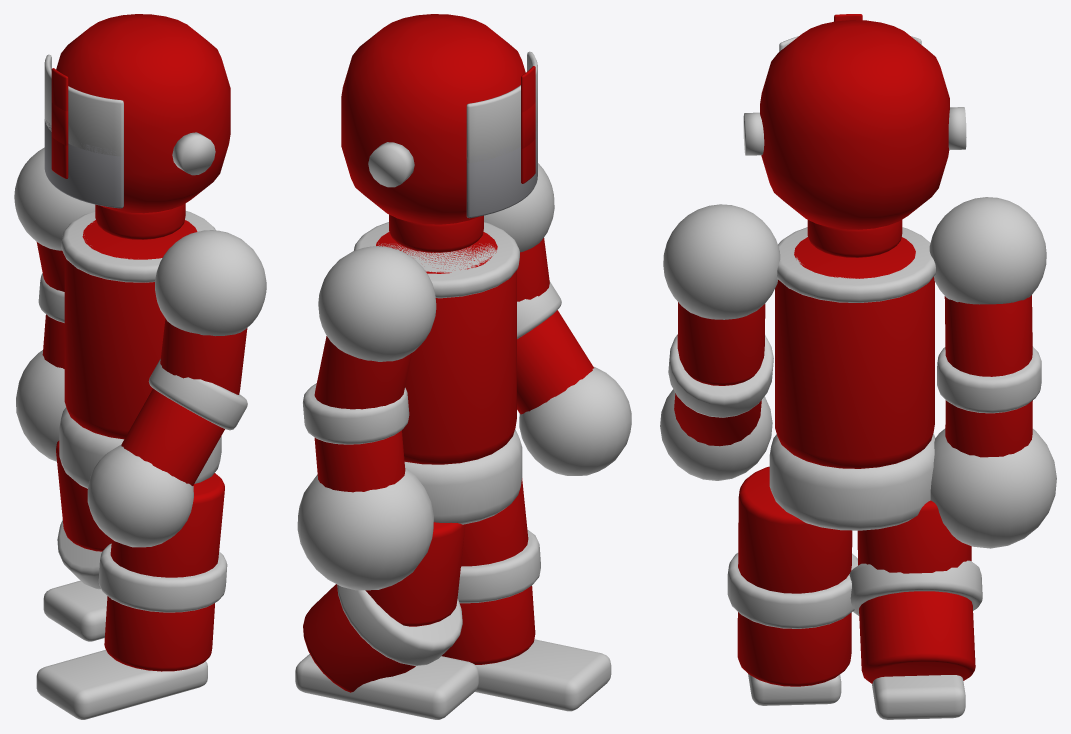
The picture shows the model from 3 angles, left to right: view 1: azimuth 30°, elevation 25°; view 2: azimuth 150°, elevation 25°; view 3: azimuth 270°, elevation 25°; orthographic projection. The views are drawn at different scales.
Visible parts, largest first — view 1: head, torso, shoulder_ball_n, fist_ball_n, foot_n, shin_n, farm_n, thigh_n, knee_ring_n, uarm_n, shoulder_ball_f, fist_ball_f (+15 smaller); view 2: head, torso, fist_ball_f, shoulder_ball_f, fist_ball_n, foot_n, foot_f, hips, thigh_f, shin_f, collar, farm_n (+16 smaller); view 3: head, torso, shoulder_ball_n, fist_ball_f, shoulder_ball_f, hips, shin_f, thigh_n, shin_n, uarm_f, uarm_n, collar (+13 smaller).
Part boxes in pixels (bbox=[...]): head: bbox=[56, 14, 230, 213]; torso: bbox=[64, 220, 197, 439]; shoulder_ball_n: bbox=[155, 230, 266, 336]; fist_ball_n: bbox=[87, 445, 193, 547]; foot_n: bbox=[36, 649, 207, 719]; shin_n: bbox=[104, 596, 214, 671]; farm_n: bbox=[121, 388, 224, 485]; thigh_n: bbox=[110, 473, 224, 577]; knee_ring_n: bbox=[98, 543, 227, 612]; uarm_n: bbox=[160, 318, 247, 394]; shoulder_ball_f: bbox=[14, 147, 95, 250]; fist_ball_f: bbox=[16, 350, 65, 461]; head: bbox=[341, 14, 525, 224]; torso: bbox=[376, 232, 516, 464]; fist_ball_f: bbox=[297, 467, 433, 590]; shoulder_ball_f: bbox=[318, 246, 436, 361]; fist_ball_n: bbox=[519, 367, 631, 475]; foot_n: bbox=[475, 639, 611, 711]; foot_f: bbox=[295, 654, 478, 719]; hips: bbox=[404, 429, 522, 524]; thigh_f: bbox=[365, 522, 465, 626]; shin_f: bbox=[303, 584, 415, 692]; collar: bbox=[354, 222, 519, 298]; farm_n: bbox=[517, 310, 593, 414]; head: bbox=[760, 20, 949, 229]; torso: bbox=[775, 237, 934, 468]; shoulder_ball_n: bbox=[663, 204, 780, 319]; fist_ball_f: bbox=[930, 428, 1056, 548]; shoulder_ball_f: bbox=[929, 197, 1046, 304]; hips: bbox=[769, 434, 935, 530]; shin_f: bbox=[859, 591, 975, 683]; thigh_n: bbox=[738, 466, 852, 593]; shin_n: bbox=[737, 612, 851, 686]; uarm_f: bbox=[944, 295, 1032, 376]; uarm_n: bbox=[677, 302, 765, 385]; collar: bbox=[777, 227, 935, 302].
Size of the model in its own units: 0.5314 by 1.54 by 0.8346.
